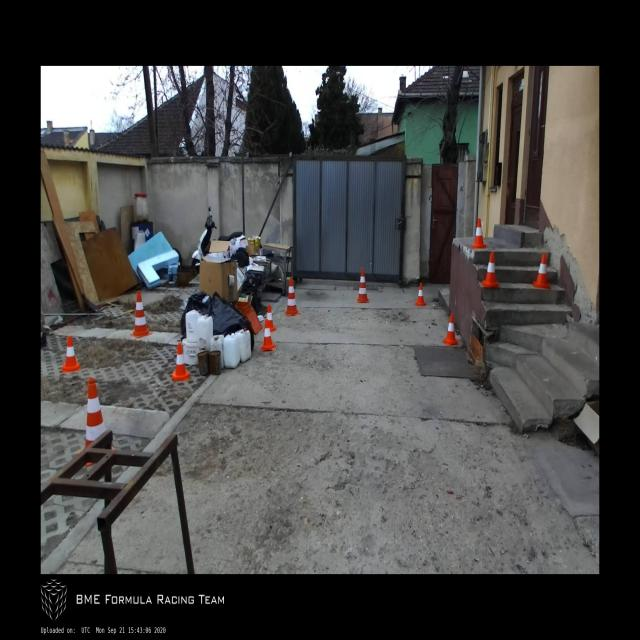large_orange_cone: (78, 377, 115, 468), (129, 292, 151, 338), (283, 277, 300, 316), (356, 267, 369, 303)
orange_cone: (481, 251, 500, 288), (62, 336, 80, 372), (532, 253, 550, 289), (172, 344, 189, 381), (443, 314, 458, 346), (261, 319, 275, 352), (472, 218, 486, 248), (263, 304, 276, 332), (415, 284, 426, 306)
